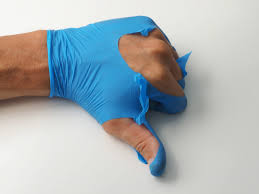defected: (55, 9, 210, 185)
